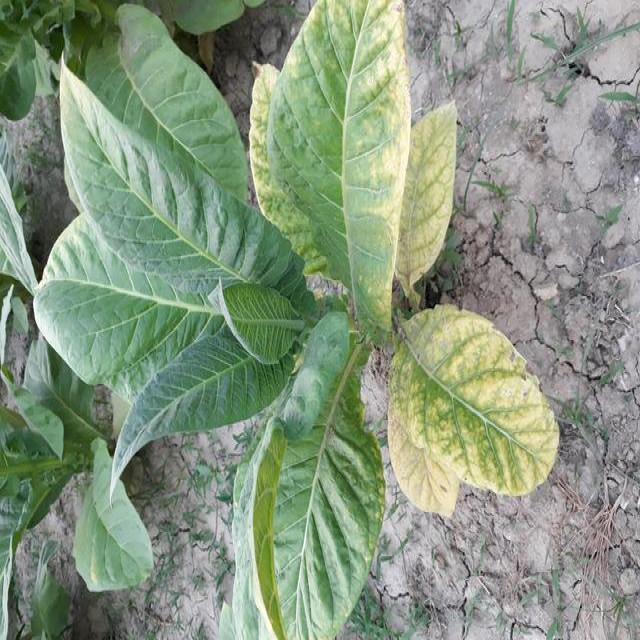crop: (36, 7, 569, 637)
